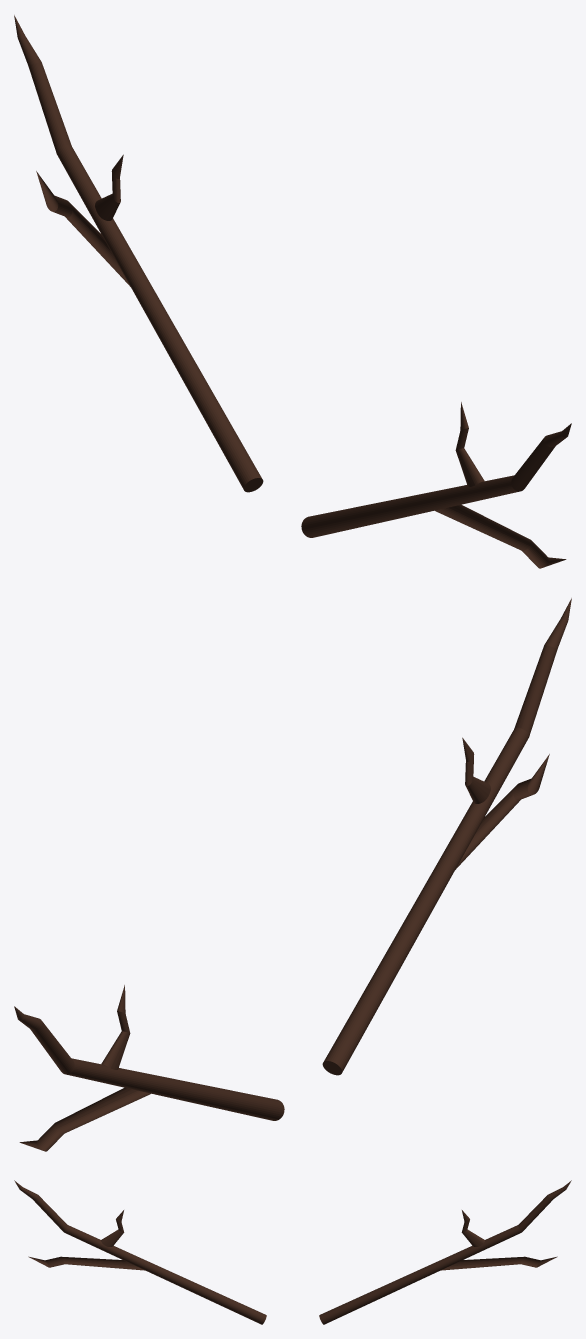
File: stick.fbx
3 views of the same model, one above another, from view 1: azimuth 30°, elevation 25°; view 2: azimuth 150°, elevation 25°; view 3: azimuth 270°, elevation 25° (orthographic). The views are drawn at different scales.
Parts seen in each view (by area): view 1: Stick Arm.002, Stick Arm.001; view 2: Stick Arm.001, Stick Arm.002; view 3: Stick Arm.001, Stick Arm.002.
Boxes of the visible parts, x1,y1,x2,y2 form: Stick Arm.002: (14, 15, 263, 492); Stick Arm.001: (301, 402, 571, 568); Stick Arm.001: (322, 598, 571, 1075); Stick Arm.002: (14, 985, 284, 1151); Stick Arm.001: (14, 1180, 266, 1324); Stick Arm.002: (319, 1180, 571, 1324).
Bounding box in the file's own units: 32.95 × 1047 × 304.
